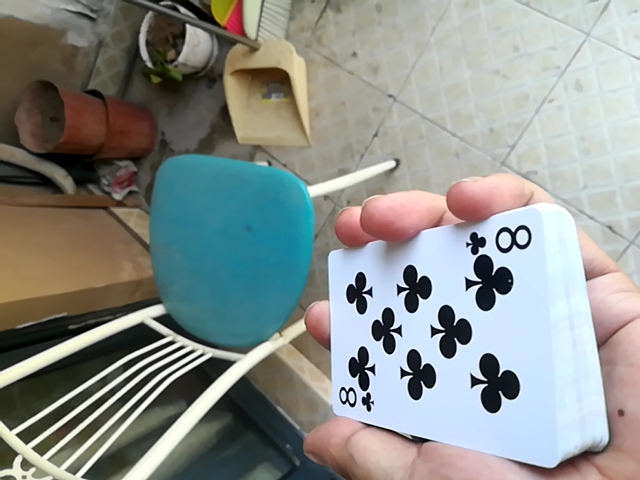mh 8: (308, 199, 595, 468)
